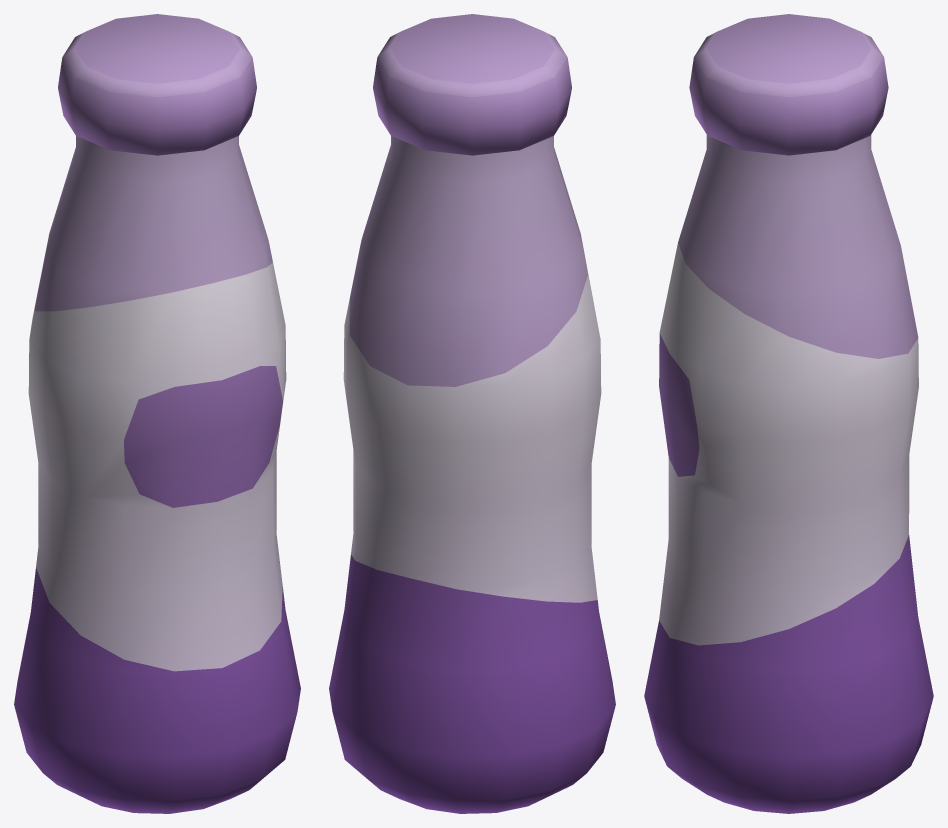
Rendered from yogurt_001.fbx.
3 renders of one model, left to right at view 1: azimuth 30°, elevation 25°; view 2: azimuth 150°, elevation 25°; view 3: azimuth 270°, elevation 25°, orthographic.
Visible parts, largest first — view 1: yogurt_001; view 2: yogurt_001; view 3: yogurt_001.
Boxes of the visible parts, bbox=[...] form: yogurt_001: bbox=[14, 14, 300, 813]; yogurt_001: bbox=[329, 14, 615, 813]; yogurt_001: bbox=[644, 14, 933, 813].
Size of the model in its own units: 5.43 by 5.43 by 15.03.
